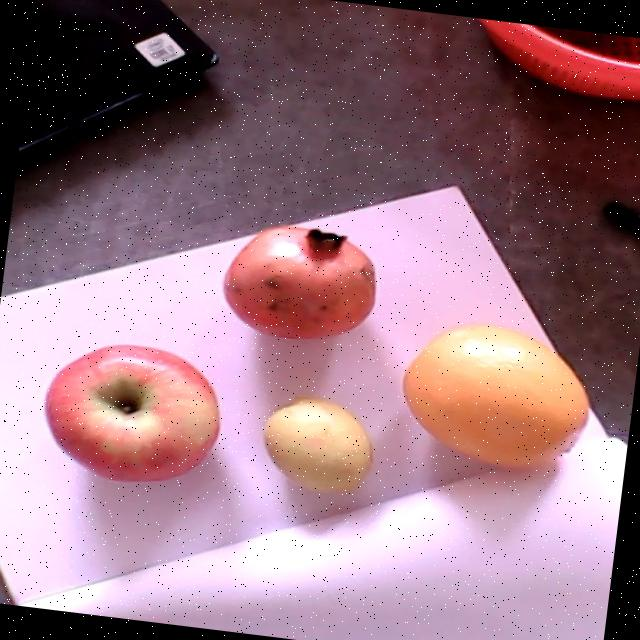apple: (42, 345, 220, 482)
lemon: (262, 394, 372, 494)
orange: (402, 322, 587, 467)
pomegranate: (221, 225, 376, 340)
